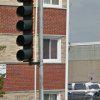Traffic light: (10, 2, 44, 68)
